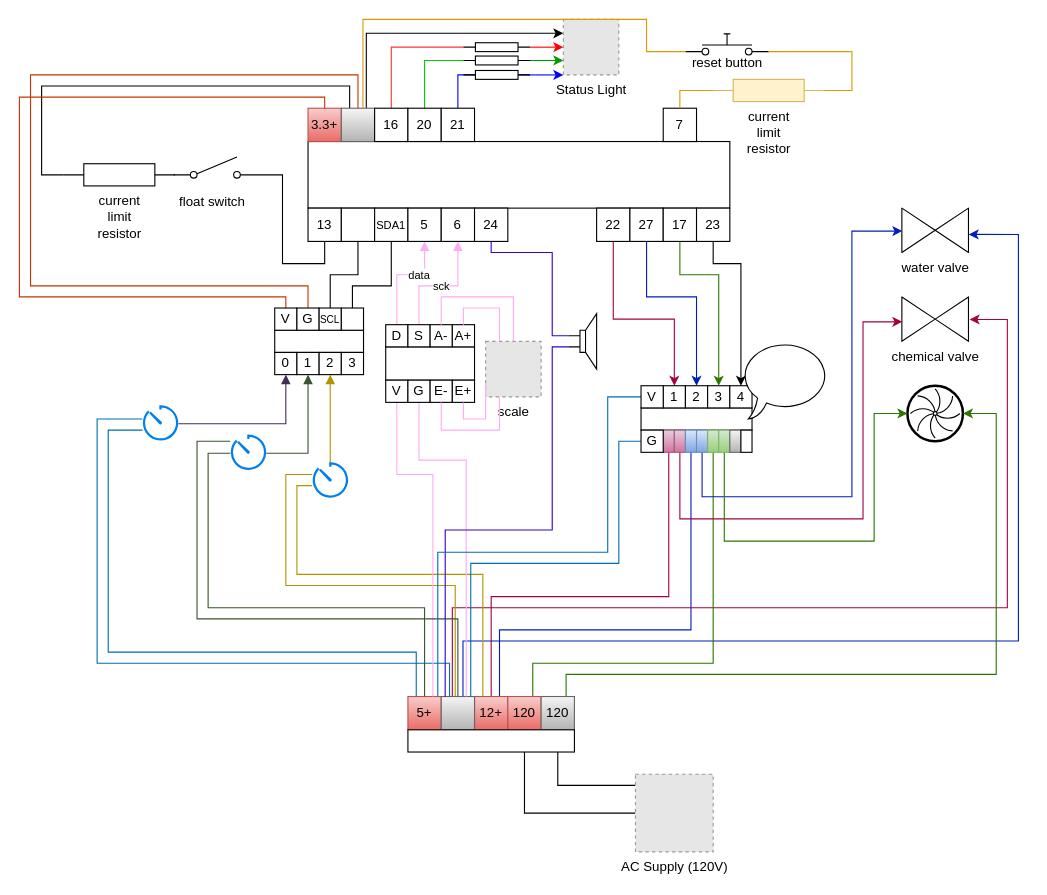
Some shapes in this 1047 by 895 pixel diagram are drawn without their labels. Grey dashed boxes stand in for pictures. The shapes that lost their labels are listed below. From the top down, each one's centre as x and y in pixels, then its label:
At (x=357, y=124): "GND".
At (x=518, y=174): "Raspberry pi".
At (x=357, y=224): "SCL1".
At (x=352, y=318): "SDA".
At (x=319, y=340): "ADC".
At (x=582, y=340): "audible indicator".
At (x=430, y=363): "HX711".
At (x=785, y=379): "connected normally open".
At (x=160, y=423): "vacuum".
At (x=696, y=418): "Relay".
At (x=934, y=413): "motor".
At (x=248, y=452): "pressure (line in)".
At (x=330, y=480): "pressure (line out)".
At (x=457, y=712): "0/G".
At (x=490, y=740): "Power Supply".
